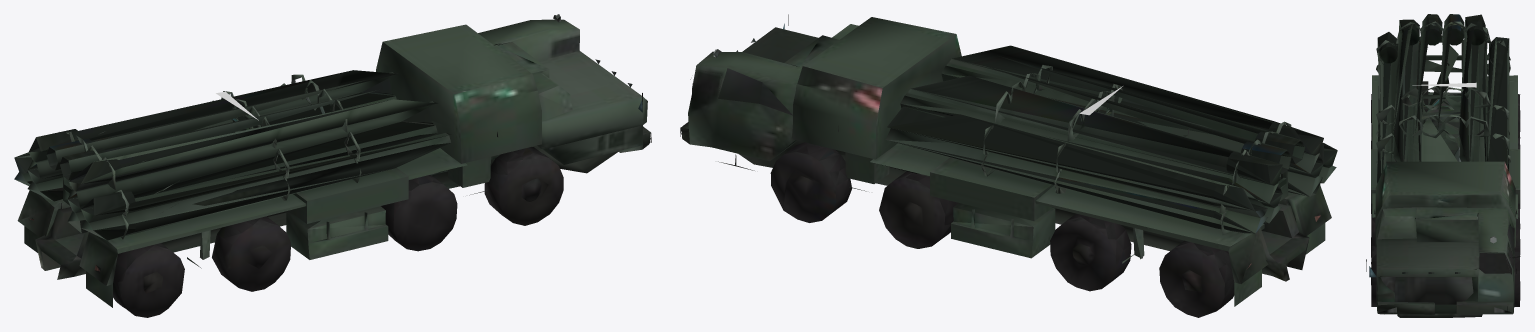
File: tornado_lo.glb
3 renders of one model, left to right at view 1: azimuth 30°, elevation 25°; view 2: azimuth 150°, elevation 25°; view 3: azimuth 270°, elevation 25°, orthographic. The views are drawn at different scales.
Visible parts, largest first — view 1: g_tornado_hull, g_tornado_turret; view 2: g_tornado_hull, g_tornado_turret; view 3: g_tornado_hull, g_tornado_turret.
Part boxes in pixels (box(x1,y1,x2,y2)): g_tornado_hull: box(17, 14, 651, 317); g_tornado_turret: box(14, 70, 451, 240); g_tornado_hull: box(680, 14, 1331, 317); g_tornado_turret: box(885, 45, 1337, 235); g_tornado_hull: box(1366, 75, 1520, 317); g_tornado_turret: box(1376, 14, 1510, 183).
Bounding box in the file's own units: 12.1 × 3.05 × 3.51.
Materials: 3 (2 with a texture image).
